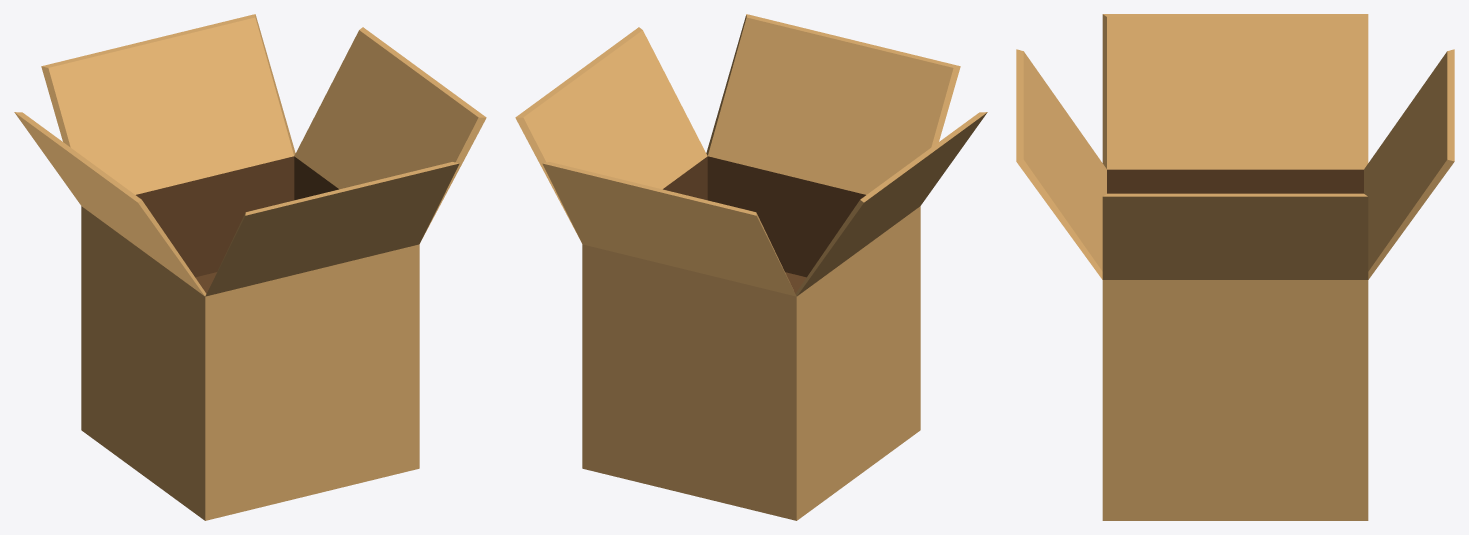
The picture shows the model from 3 angles, left to right: view 1: azimuth 30°, elevation 25°; view 2: azimuth 150°, elevation 25°; view 3: azimuth 270°, elevation 25°; orthographic projection. The views are drawn at different scales.
Parts seen in each view (by area): view 1: Cube; view 2: Cube; view 3: Cube.
Boxes of the visible parts, x1,y1,x2,y2 form: Cube: (14,14,486,520); Cube: (515,14,987,520); Cube: (1016,14,1454,520).
Size of the model in its own units: 827 by 758 by 839.
